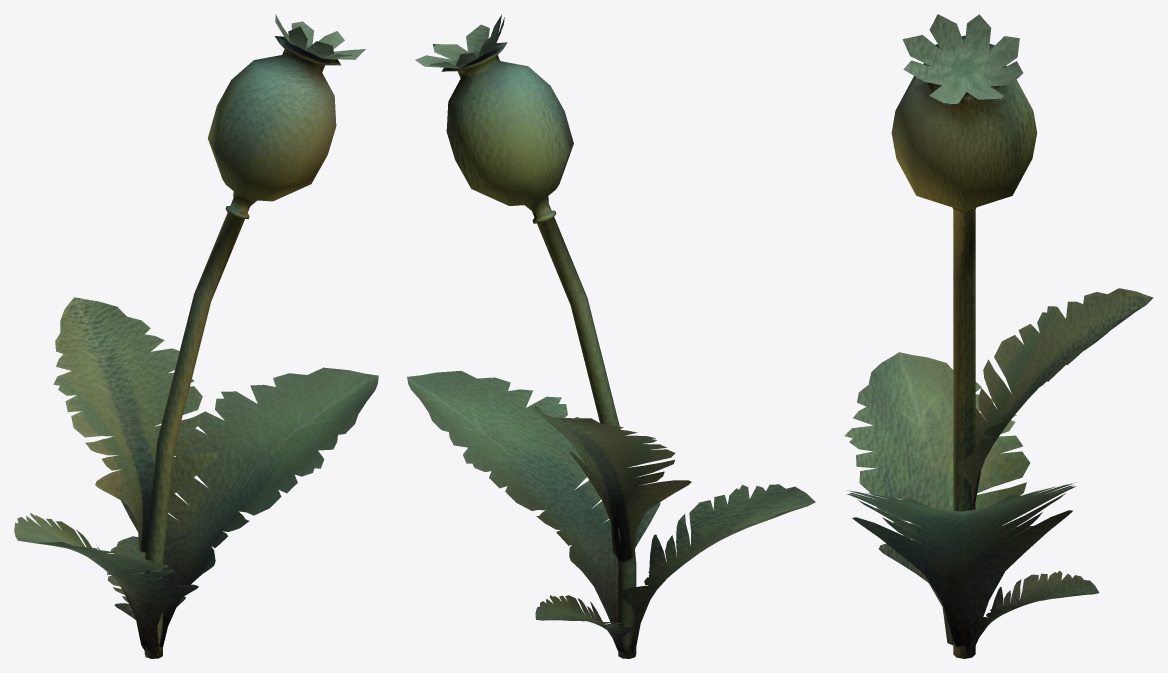
The model's file is 1.opium.fbx.
3 views of the same model, side by side, from view 1: azimuth 30°, elevation 25°; view 2: azimuth 150°, elevation 25°; view 3: azimuth 270°, elevation 25° (orthographic). The views are drawn at different scales.
Visible parts, largest first — view 1: Cylinder; view 2: Cylinder; view 3: Cylinder.
Boxes of the visible parts, box(x1,y1,x2,y2) form: Cylinder: box(14, 14, 378, 658); Cylinder: box(407, 14, 815, 658); Cylinder: box(844, 14, 1153, 658).
Bounding box in the file's own units: 404 × 603 × 236.
